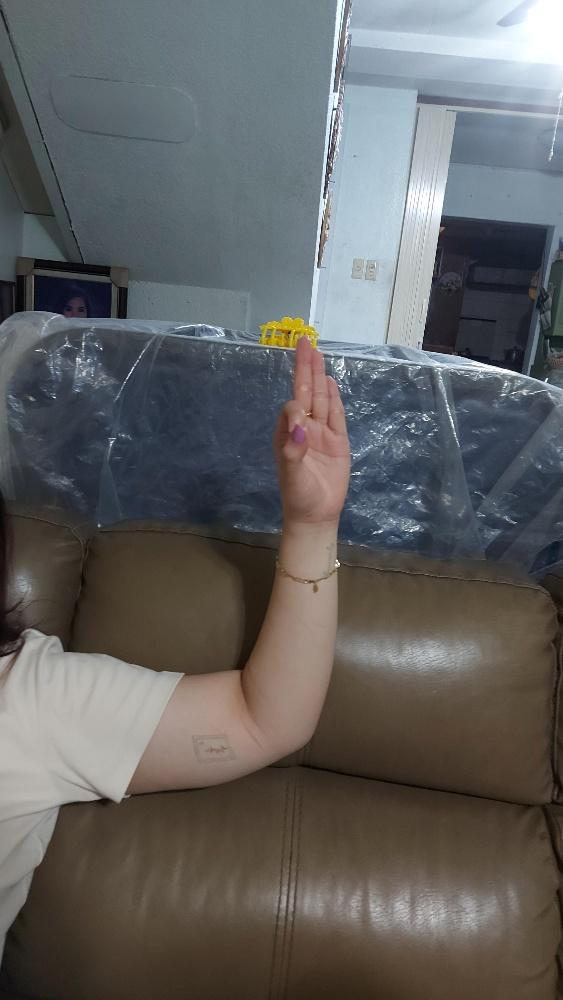f: (271, 335, 350, 520)
